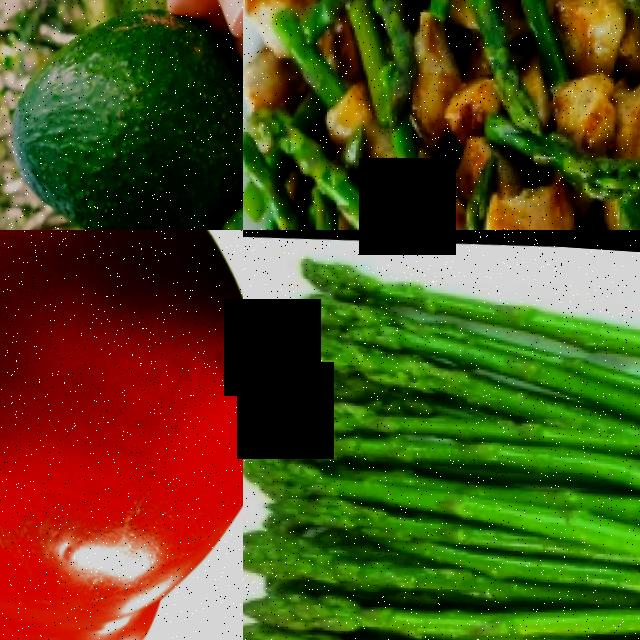asparagus: (244, 369, 640, 482), (243, 447, 640, 542), (266, 306, 640, 400), (243, 526, 640, 610), (243, 573, 640, 640), (475, 0, 534, 123), (441, 169, 498, 230)
avocado: (0, 0, 243, 230)
bell pepper: (0, 230, 243, 640)
